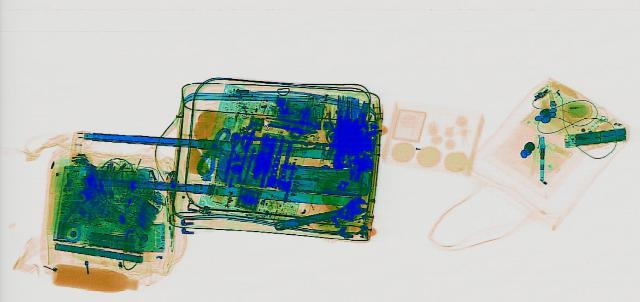Wrench: (260, 194, 382, 233)
